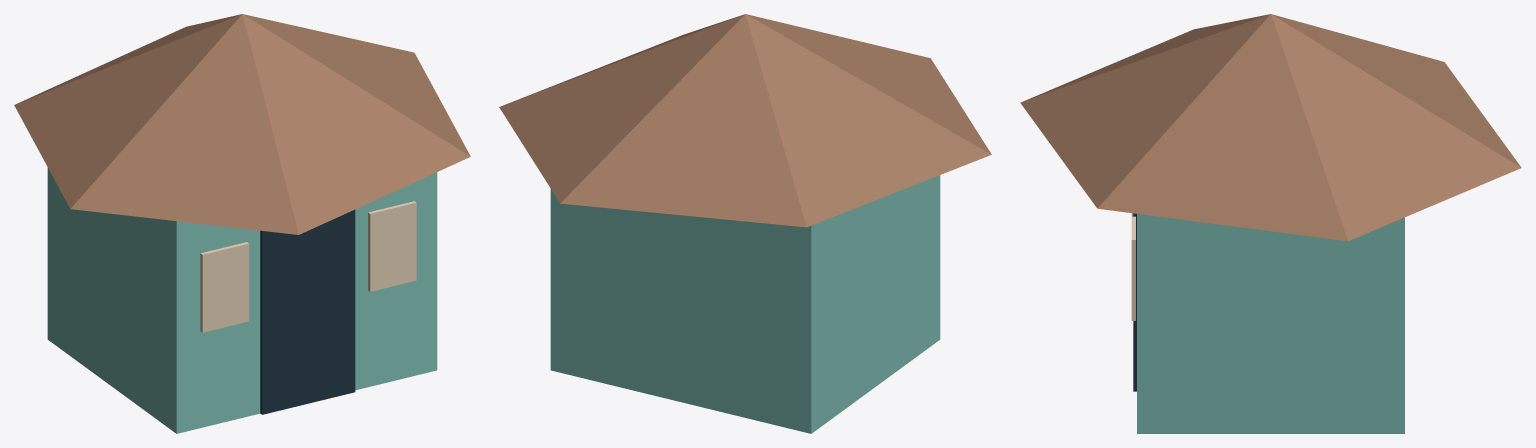
Rendered from beachHut.obj.
3 renders of one model, left to right at view 1: azimuth 30°, elevation 25°; view 2: azimuth 150°, elevation 25°; view 3: azimuth 270°, elevation 25°, orthographic. The views are drawn at different scales.
Visible parts, largest first — view 1: beachHut; view 2: beachHut; view 3: beachHut.
Part boxes in pixels (left/top/right/bottom): beachHut: left=14, top=14, right=470, bottom=433; beachHut: left=499, top=14, right=991, bottom=433; beachHut: left=1020, top=14, right=1521, bottom=433.
Size of the model in its own units: 4.5 by 3.5 by 4.5.
